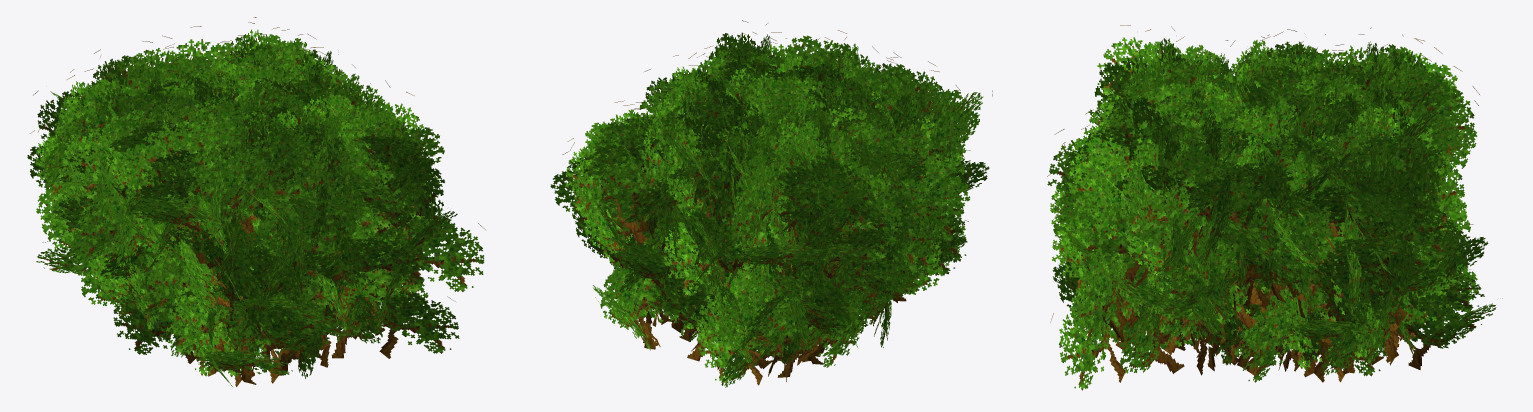
The model's file is arbustoQuadrado.glb.
The picture shows the model from 3 angles, left to right: view 1: azimuth 30°, elevation 25°; view 2: azimuth 150°, elevation 25°; view 3: azimuth 270°, elevation 25°; orthographic projection. The views are drawn at different scales.
Parts seen in each view (by area): view 1: arbustoQuadrado; view 2: arbustoQuadrado; view 3: arbustoQuadrado.
Part boxes in pixels (x1,y1,x2,y2): arbustoQuadrado: (27,17,485,387); arbustoQuadrado: (550,20,992,387); arbustoQuadrado: (1047,25,1502,390).
Size of the model in its own units: 3.28 by 2.45 by 3.58.
Materials: 1 (1 with a texture image).
